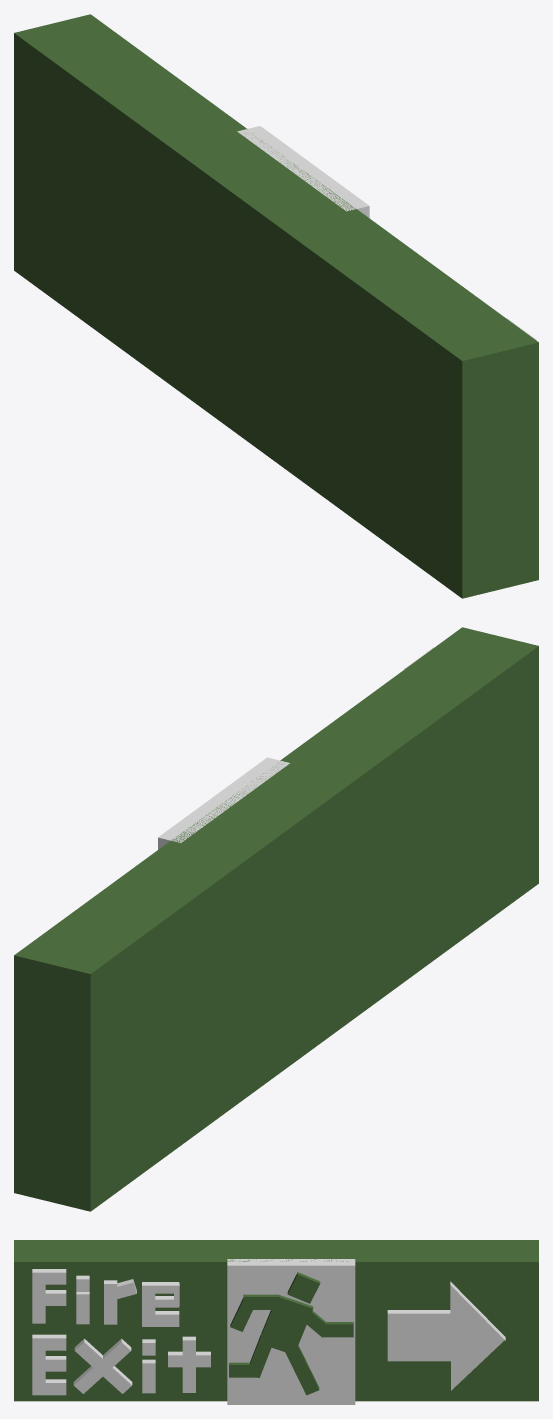
The model's file is exitsignRight.fbx.
The picture shows the model from 3 angles, top to bottom: view 1: azimuth 30°, elevation 25°; view 2: azimuth 150°, elevation 25°; view 3: azimuth 270°, elevation 25°; orthographic projection. The views are drawn at different scales.
Visible parts, largest first — view 1: Cube.004, Cube.001; view 2: Cube.004, Cube.001; view 3: Cube.004, Cube.001, Cube.016, Cube.026, Cube.002.
Boxes of the visible parts, bbox=[...] form: Cube.004: bbox=[14, 14, 538, 598]; Cube.001: bbox=[237, 126, 369, 217]; Cube.004: bbox=[14, 627, 538, 1211]; Cube.001: bbox=[158, 757, 289, 849]; Cube.004: bbox=[14, 1240, 538, 1401]; Cube.001: bbox=[227, 1259, 355, 1404]; Cube.016: bbox=[32, 1269, 210, 1395]; Cube.026: bbox=[387, 1281, 505, 1390]; Cube.002: bbox=[229, 1272, 353, 1395].
Size of the model in its own units: 14.13 by 32.78 by 112.
